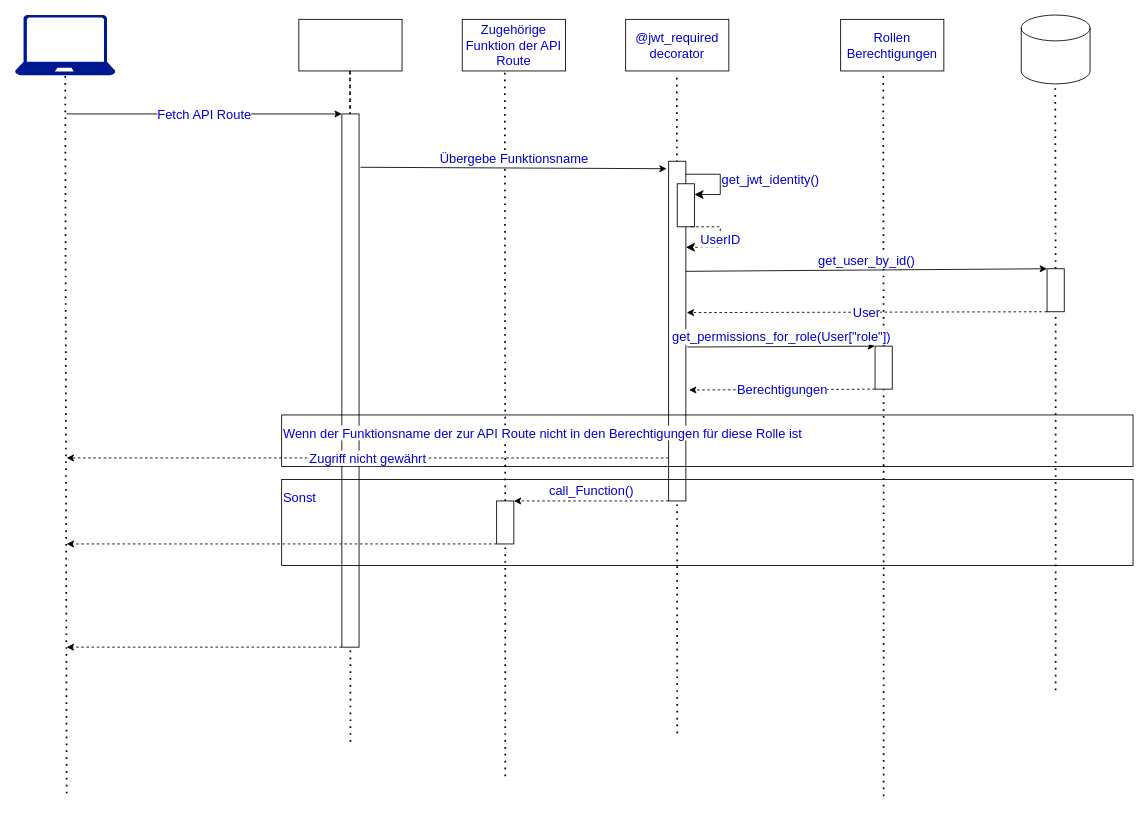
The diagram is 1148 pixels wide and 813 high, and some of its shapes have lost their labels. Here are the shapes that lost their labels. From the top down, the centre of each, then its label:
At (65,45): "Client".
At (350,44): "API Route".
At (1055,49): "Datenbank Repository".
